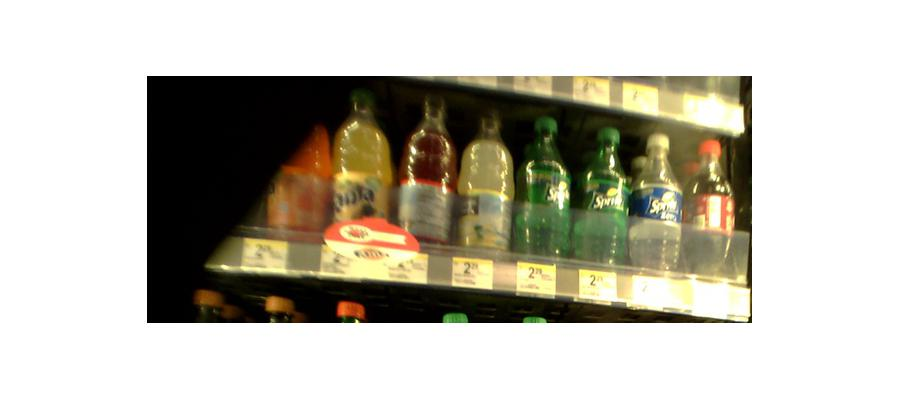bottle: (333, 87, 393, 250), (401, 94, 456, 247), (515, 115, 572, 259), (268, 107, 329, 237), (575, 124, 630, 268), (458, 112, 513, 255), (686, 133, 734, 281), (631, 133, 682, 271)
